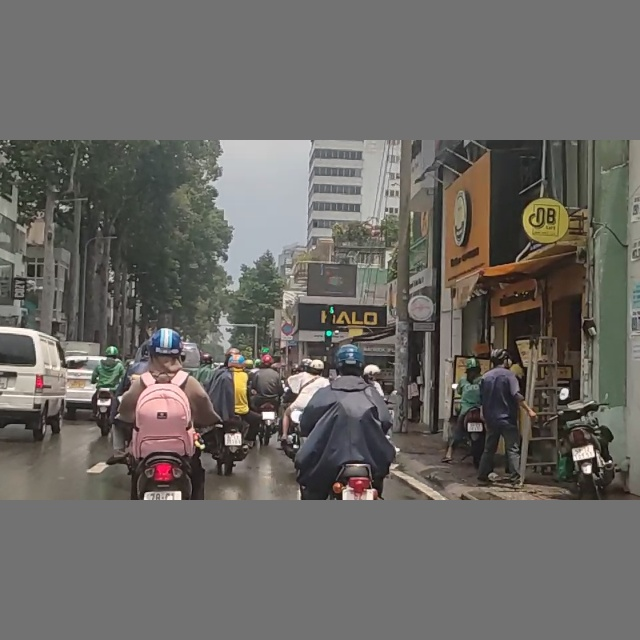P.131a: (281, 323, 295, 335)
